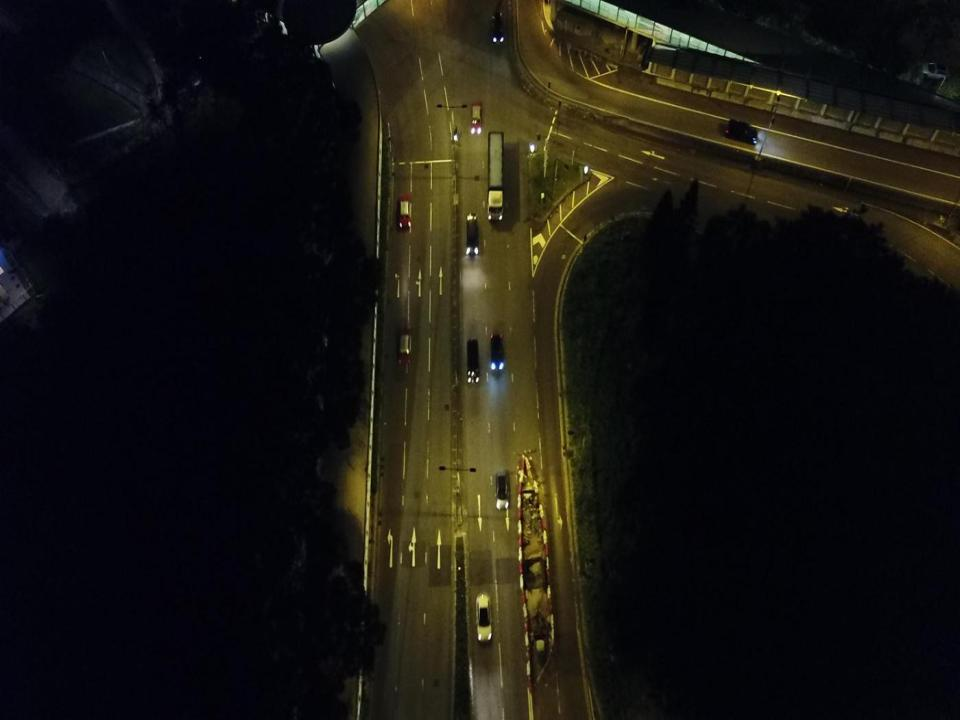car: (726, 118, 758, 145), (476, 592, 493, 642), (465, 210, 480, 258), (494, 469, 509, 509), (490, 333, 505, 371), (398, 322, 411, 364), (398, 191, 412, 229), (470, 98, 483, 134), (492, 6, 504, 44)
truck: (487, 131, 505, 222)
van: (466, 337, 482, 384)
